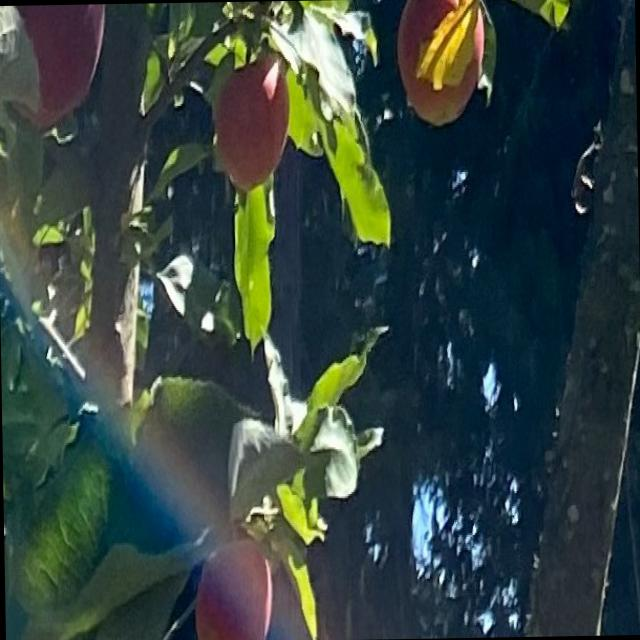Apples: (5, 4, 104, 129), (393, 0, 486, 126), (214, 58, 288, 187), (190, 540, 272, 639)
